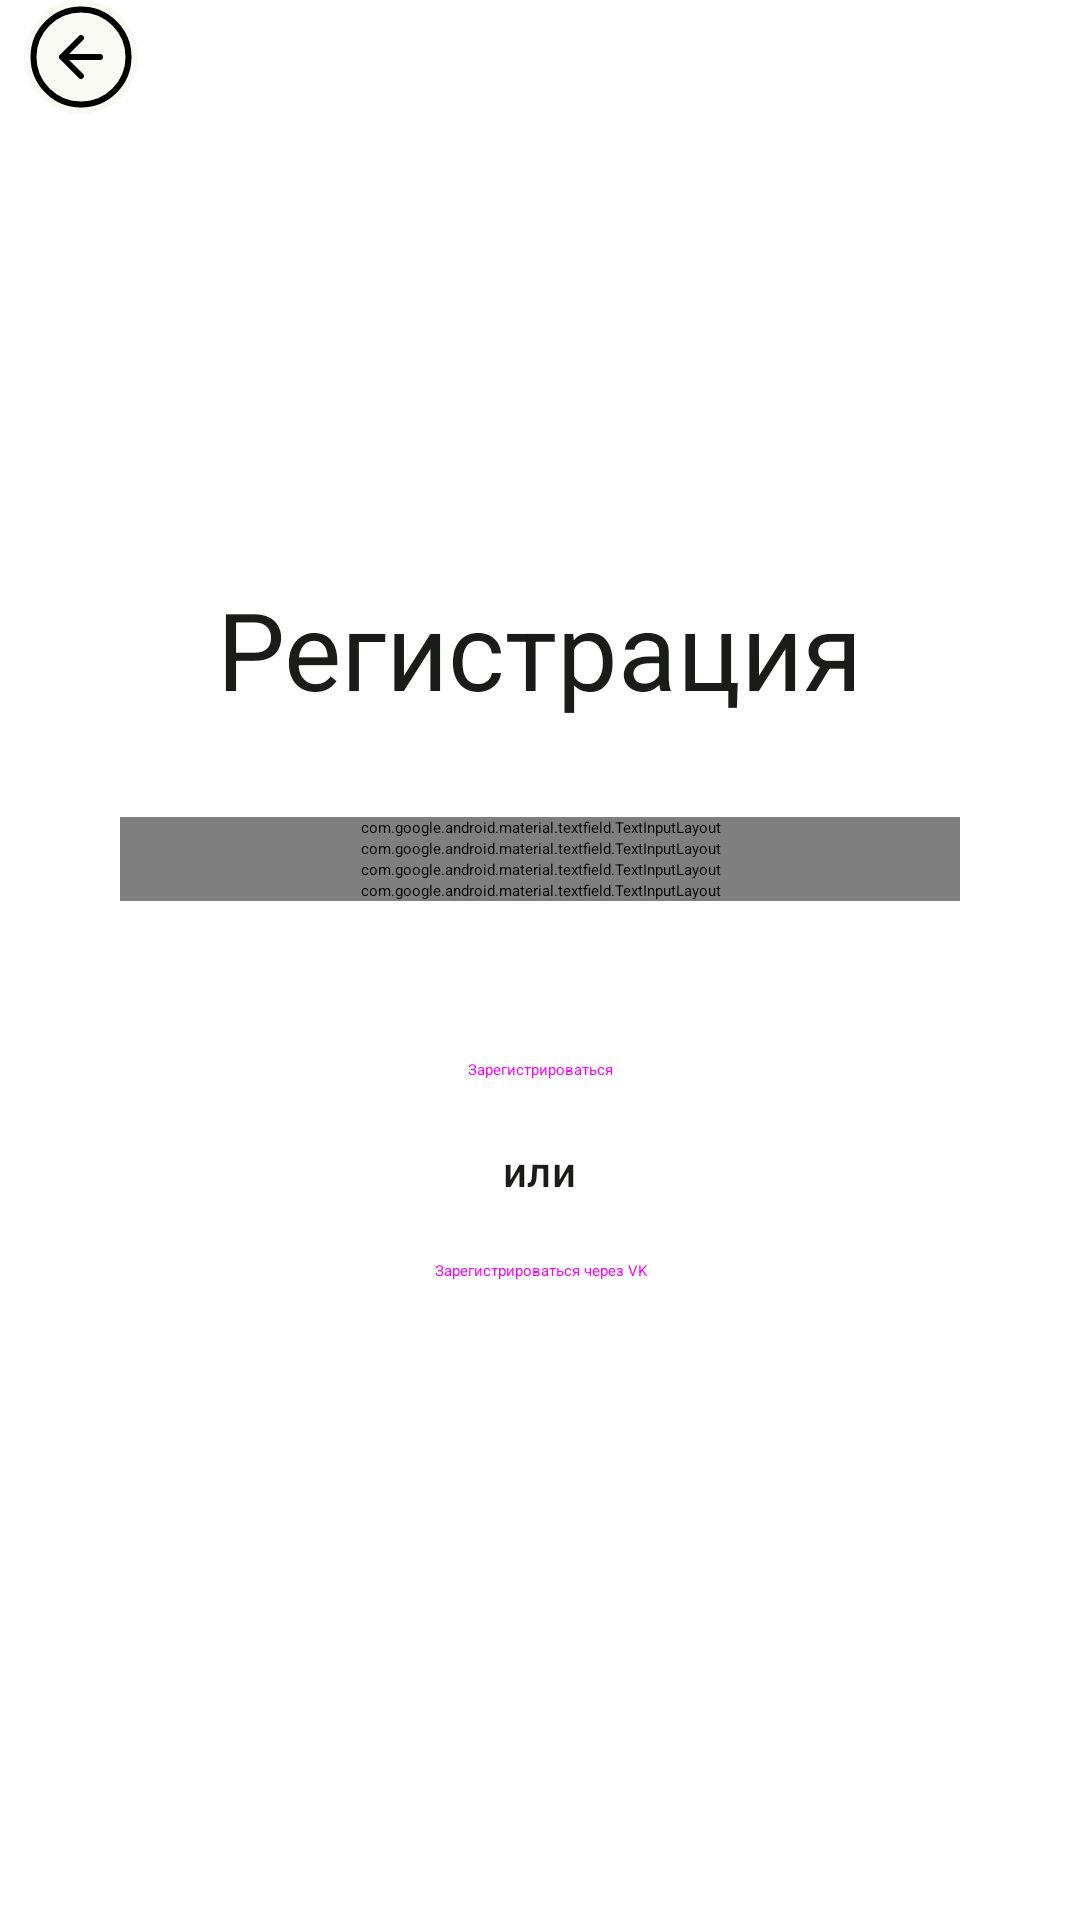

Screen size 1080w x 1920h. Icon name, then its center in pixels as [x,y]:
Иконка возврата на экран авторизации: [81,57]
